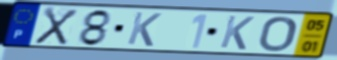1: (190, 14, 209, 50)
8: (77, 7, 113, 48)
K: (217, 14, 257, 52), (125, 11, 164, 48)
O: (257, 15, 299, 53)
X: (32, 6, 80, 47)
